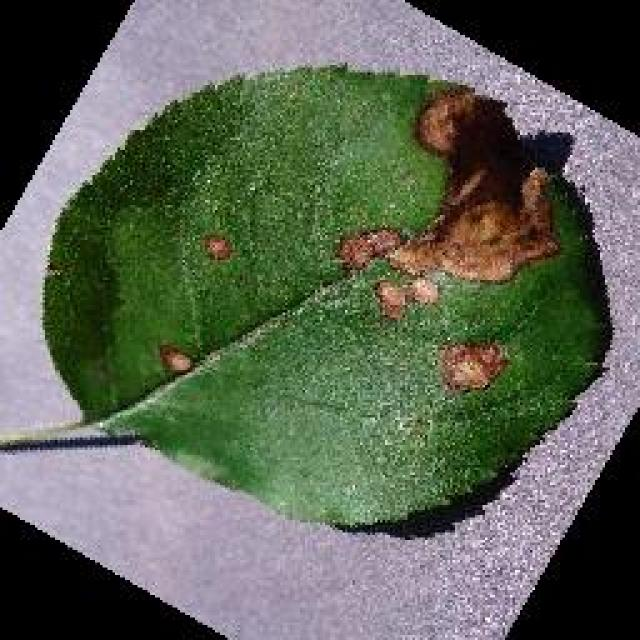apple black rot: (38, 60, 612, 535)
